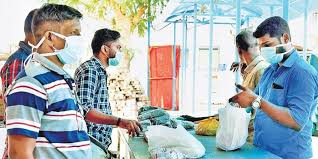mask: (49, 9, 84, 64), (256, 25, 290, 64), (99, 29, 123, 68)
